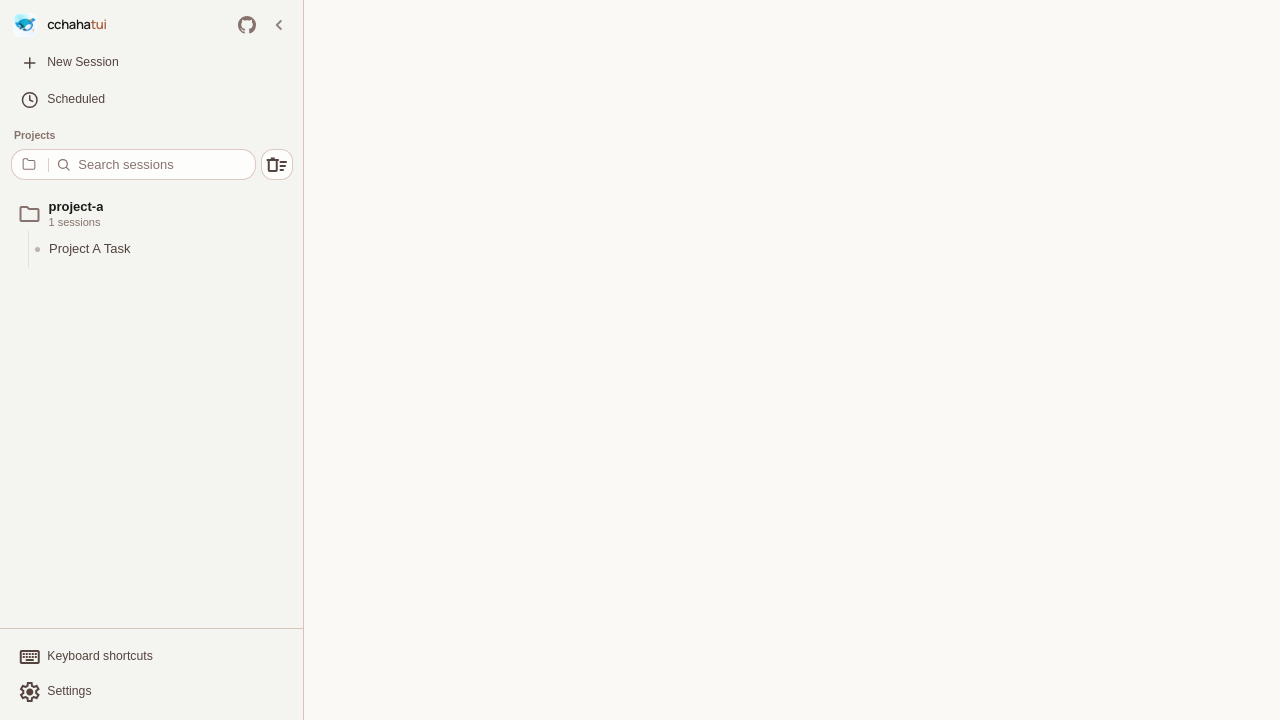
Test: Sidebar › opens a project context menu with project actions
Right-click the text "project-a" at (76, 207), box [48, 198, 103, 215]
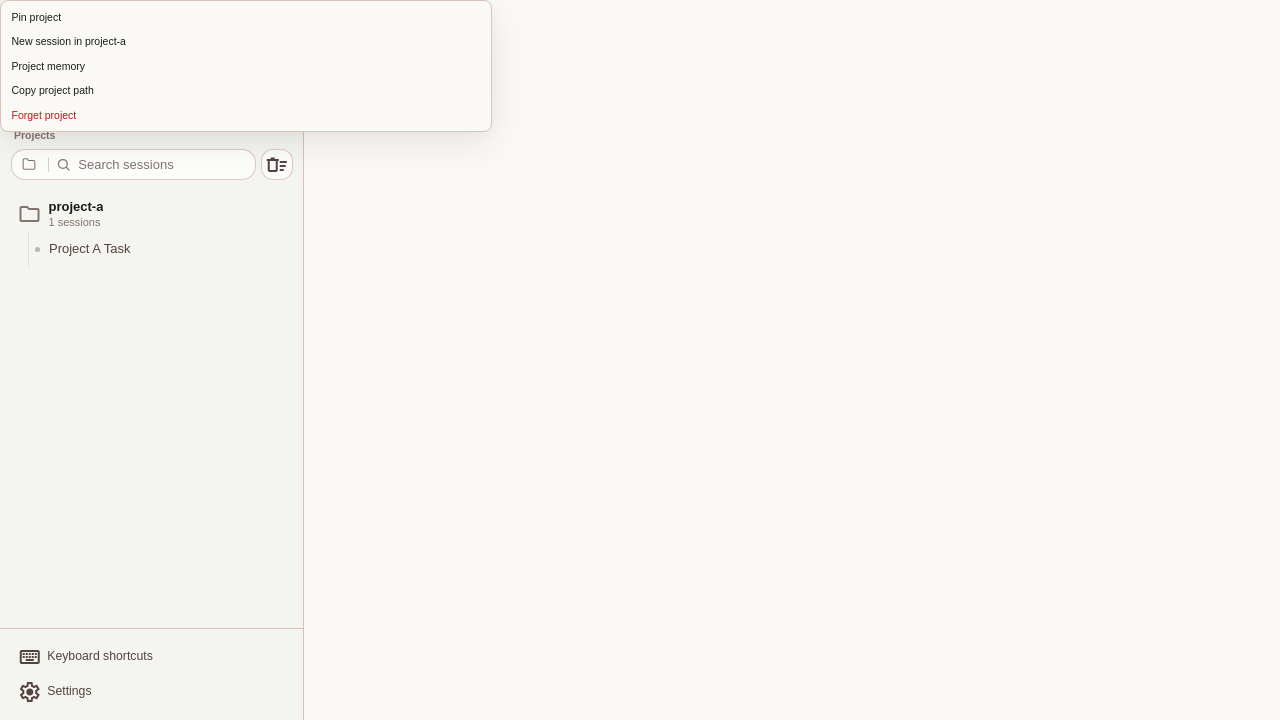
Click the button "Copy project path" at (53, 90), box [1, 78, 491, 102]
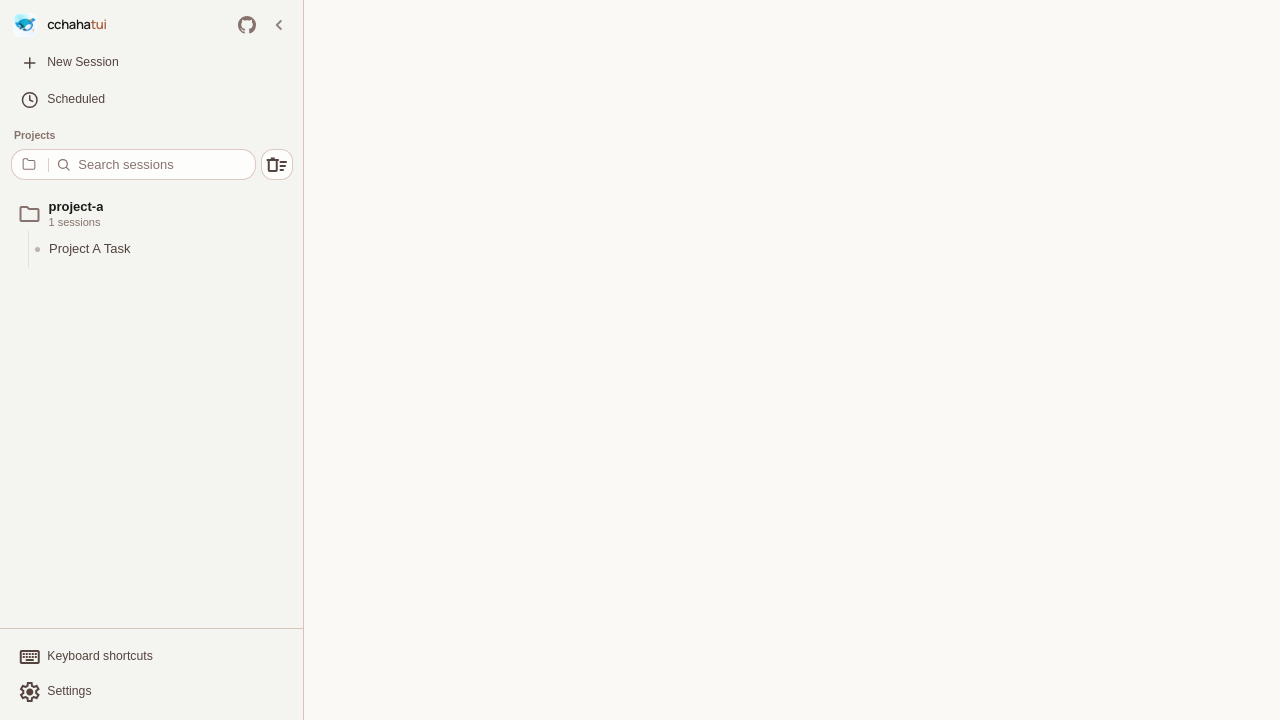
Right-click the text "project-a" at (76, 207), box [48, 198, 103, 215]
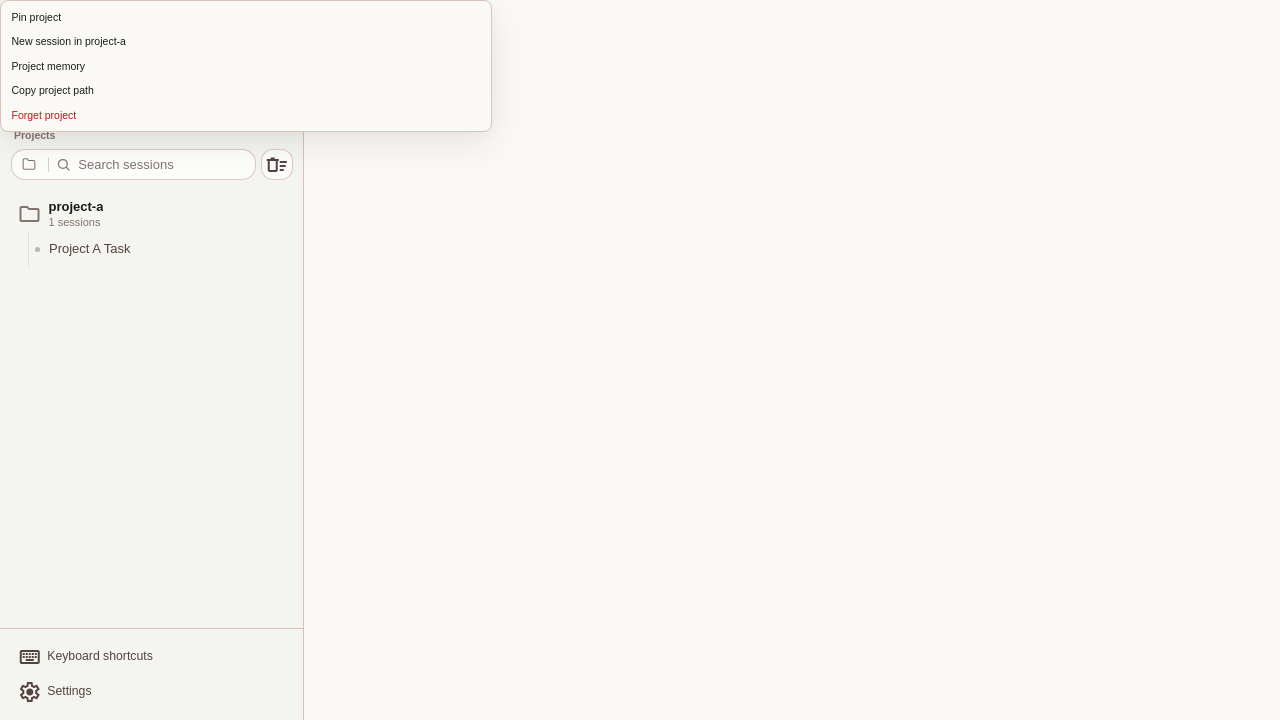
Expected: the button "New session in project-a" is shown
Click the button "New session in project-a" at (69, 41), box [1, 29, 491, 54]
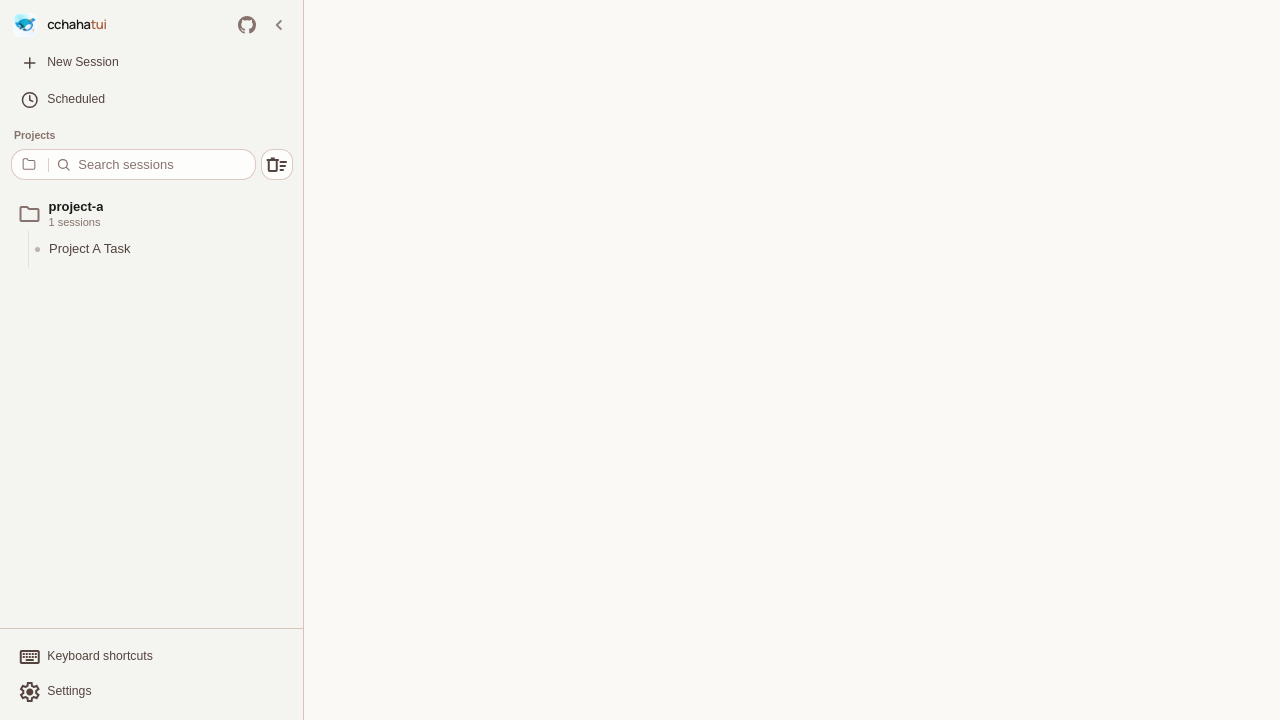
Right-click the text "project-a" at (76, 207), box [48, 198, 103, 215]
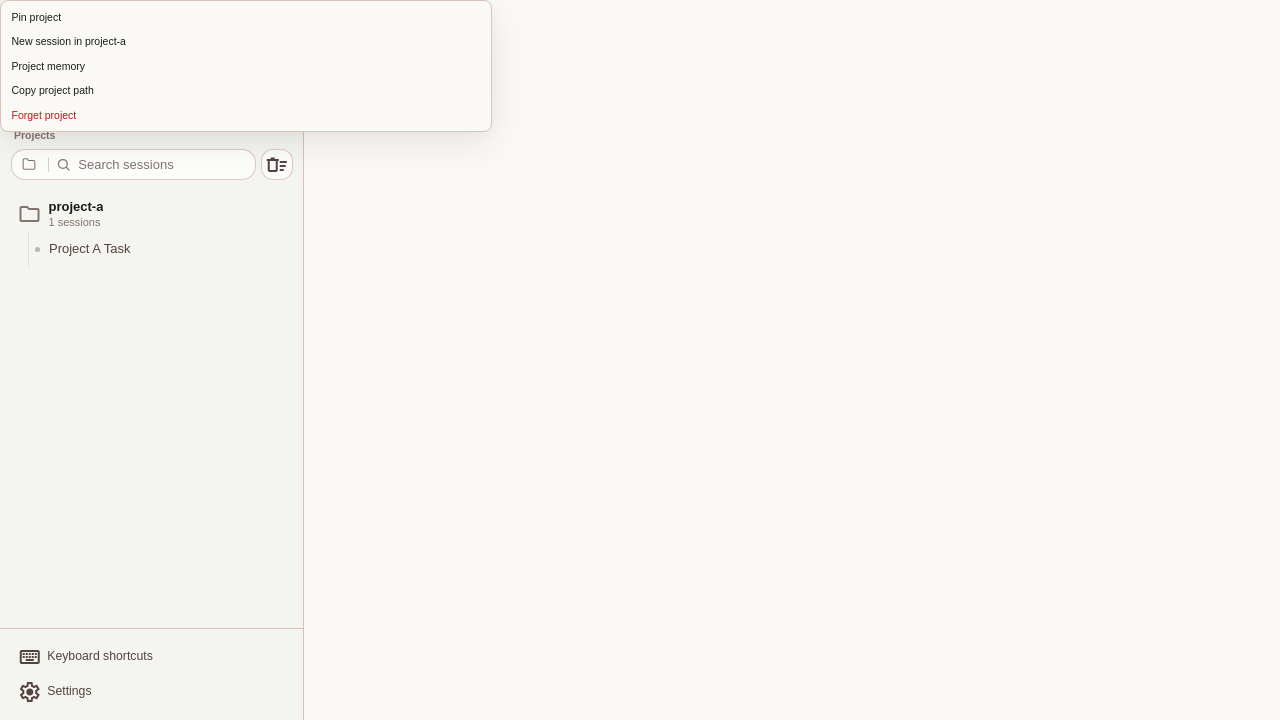
Click the button "Project memory" at (48, 66), box [1, 54, 491, 78]
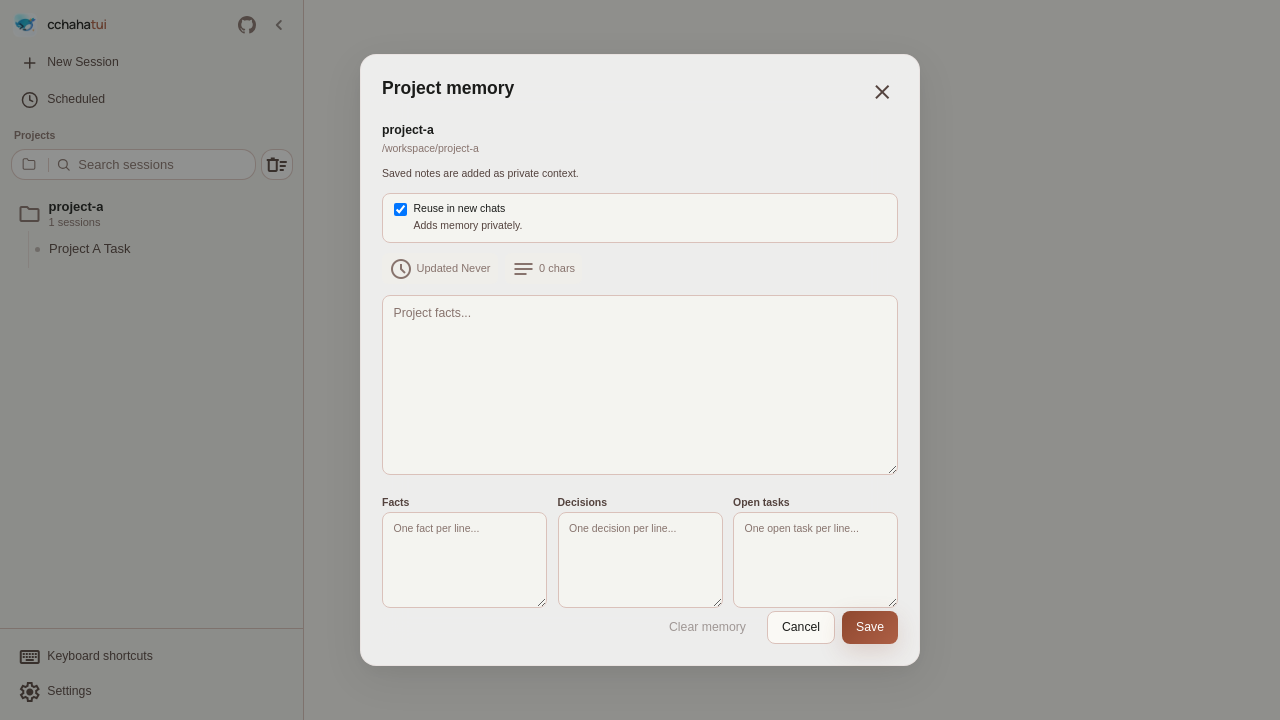
Expected: the dialog "Project memory" is shown, [360, 54, 920, 666]
